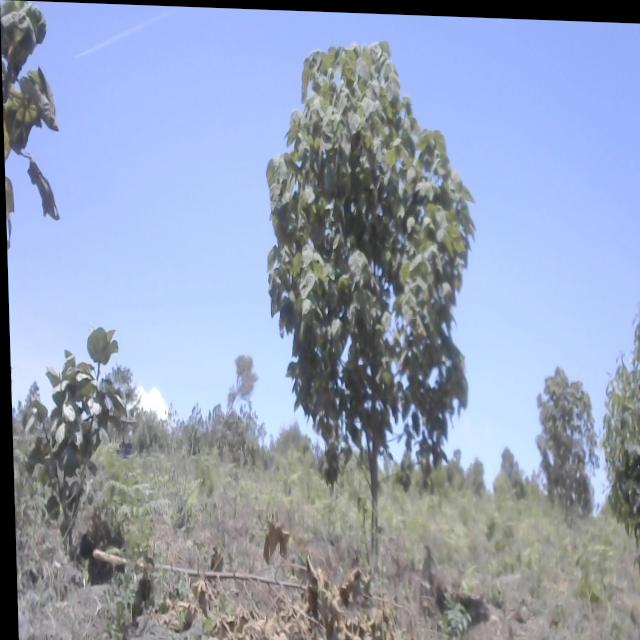Hass Avocado: (597, 304, 640, 575)
other: (259, 34, 483, 554), (7, 309, 124, 555), (0, 5, 64, 250), (529, 357, 597, 513)
